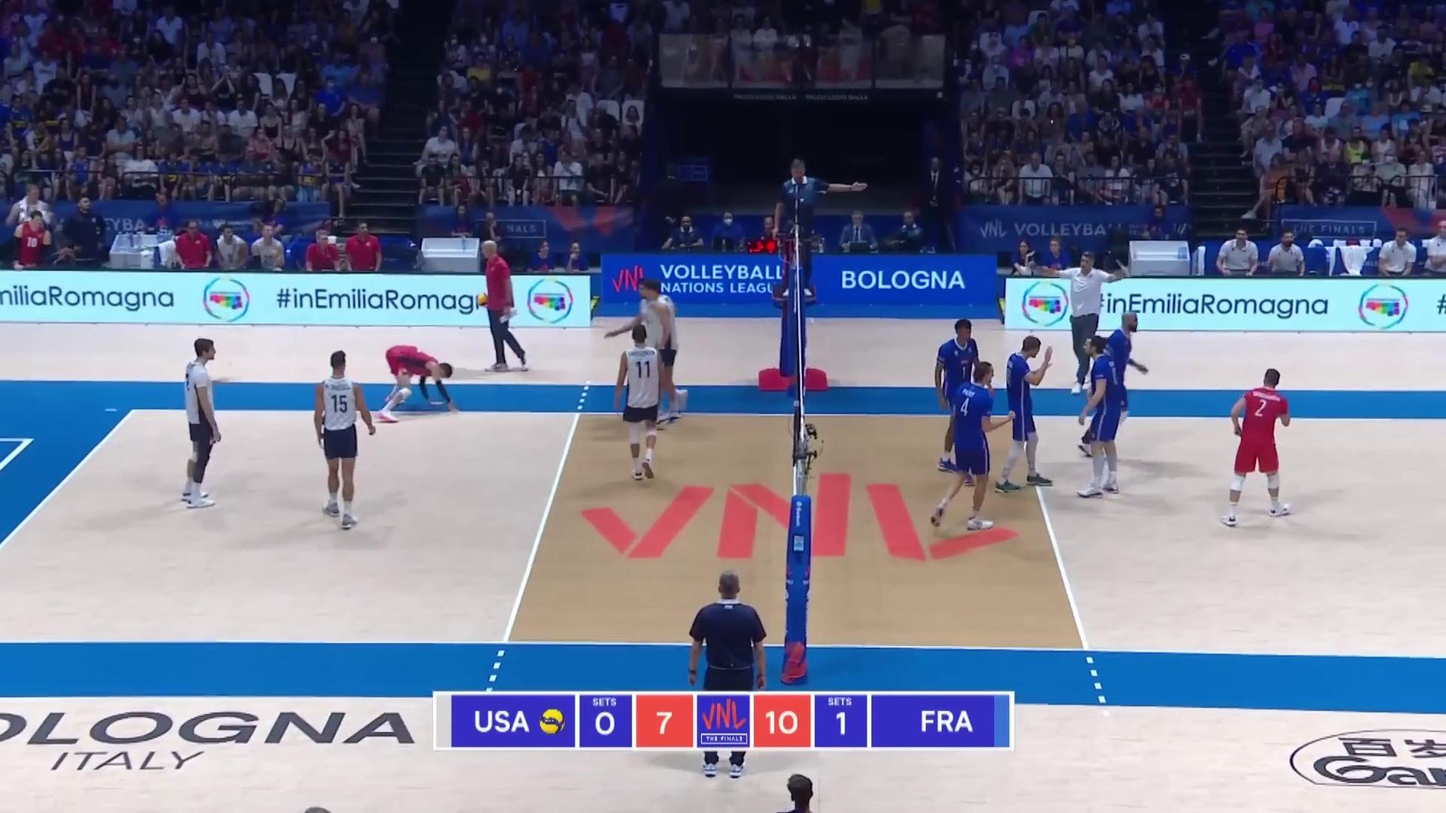player: (305, 348, 378, 532), (1222, 365, 1294, 526), (608, 275, 684, 423), (933, 362, 996, 531), (934, 319, 999, 480), (1076, 333, 1132, 494), (615, 326, 671, 486), (1080, 312, 1141, 454), (998, 337, 1052, 492), (178, 337, 221, 509), (376, 343, 457, 421), (637, 284, 676, 430)
refree: (682, 574, 766, 784), (771, 159, 828, 302)
